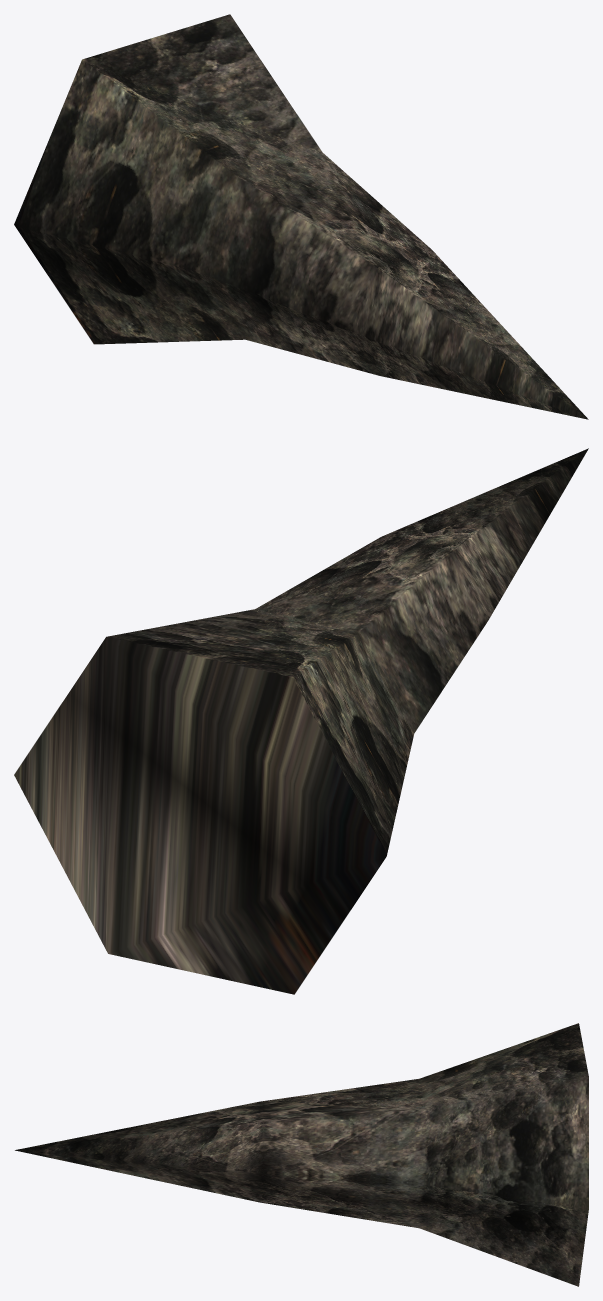
The model's file is stalagmite_06.obj.
3 renders of one model, top to bottom at view 1: azimuth 30°, elevation 25°; view 2: azimuth 150°, elevation 25°; view 3: azimuth 270°, elevation 25°, orthographic. The views are drawn at different scales.
Parts seen in each view (by area): view 1: (null); view 2: (null); view 3: (null).
Part boxes in pixels (x1,y1,x2,y2): (null): (14,14,588,419); (null): (14,448,588,994); (null): (15,1023,588,1286).
Bounding box in the file's own units: 3.37 × 2.95 × 7.34.
